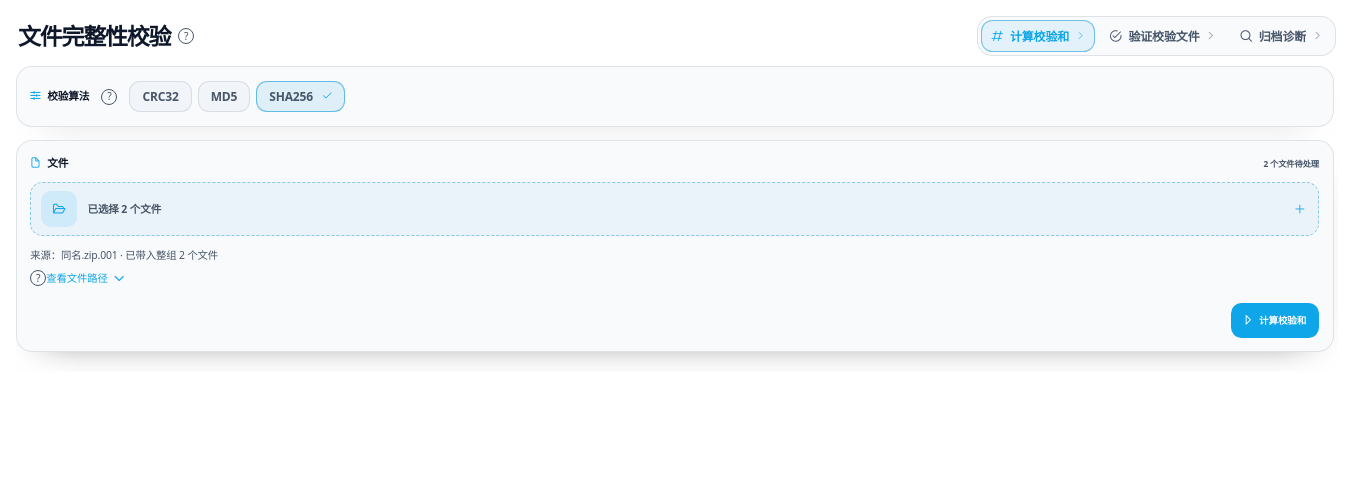
it: result checksums v1.5.25 › keeps export failure guidance visible and preserves calculated results
Click the button with test id "checksum-calculate-start" at point(1275, 320), box [1231,303,1319,338]
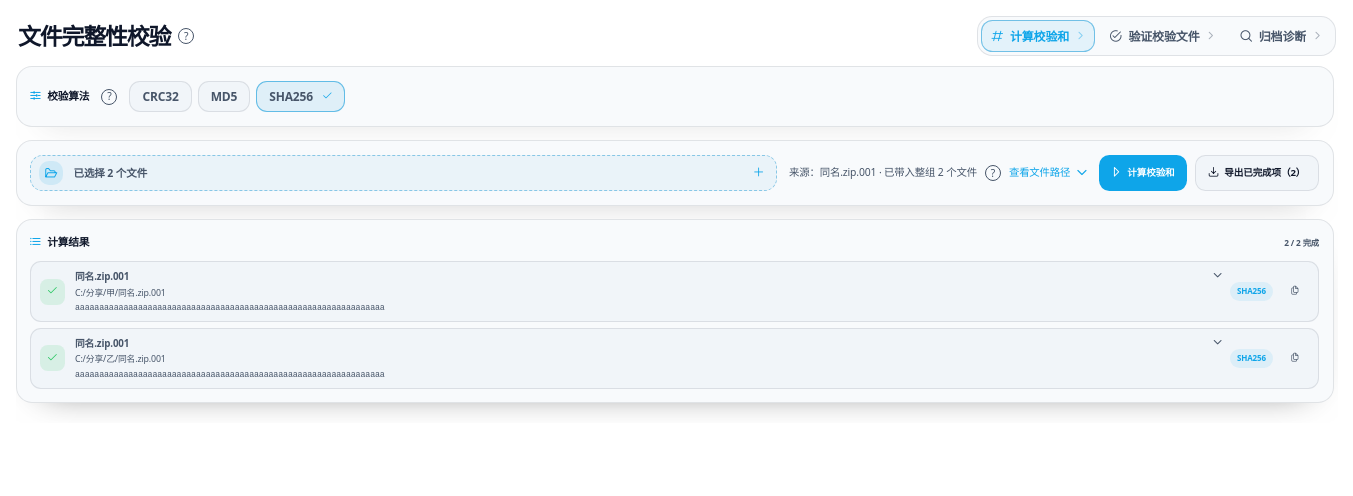
Click the button with test id "checksum-export" at point(1257, 173), box [1195,155,1319,191]
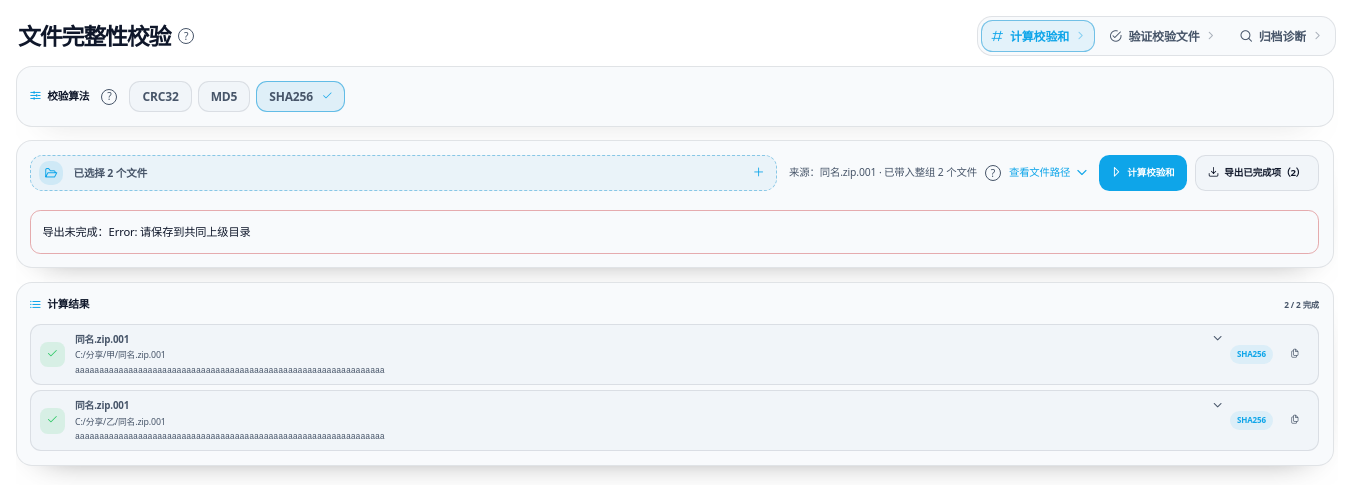
Expected: the number of elements with test id "checksum-calculation-entry" is 2, [30,324,1319,385]; [30,390,1319,451]
Expected: the message with test id "checksum-export-error" shows "共同上级目录", [42,224,250,239]
